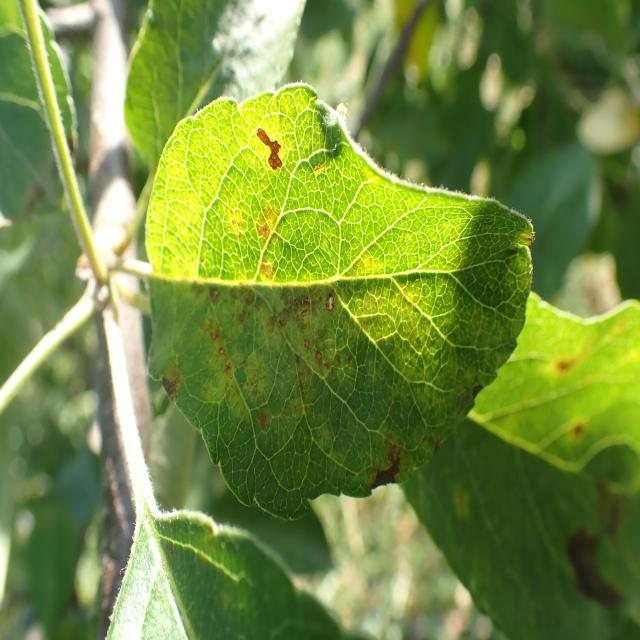scab: (160, 110, 542, 496)
